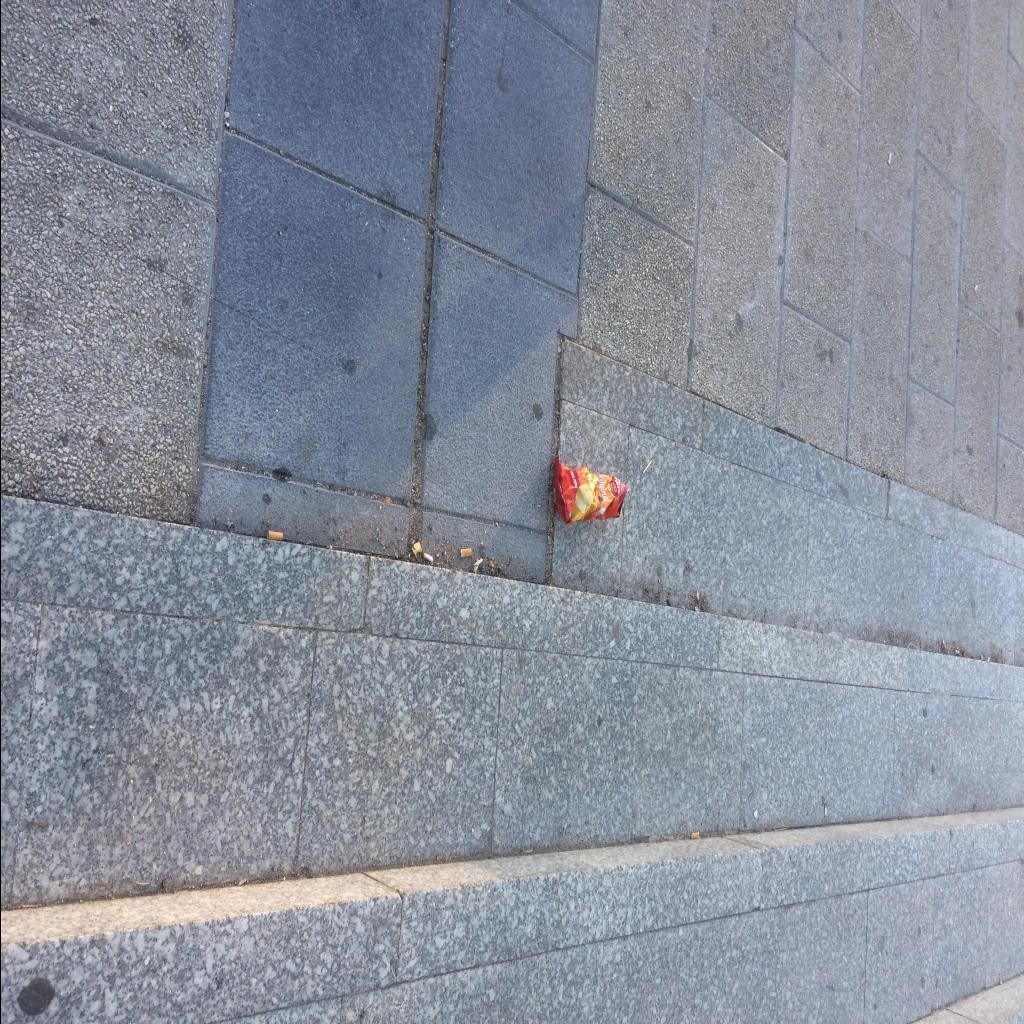Cigarette: (266, 530, 282, 540), (458, 547, 471, 556), (422, 552, 432, 562), (690, 832, 698, 838), (972, 285, 978, 291), (940, 640, 944, 648), (824, 803, 826, 815), (954, 650, 958, 654)
